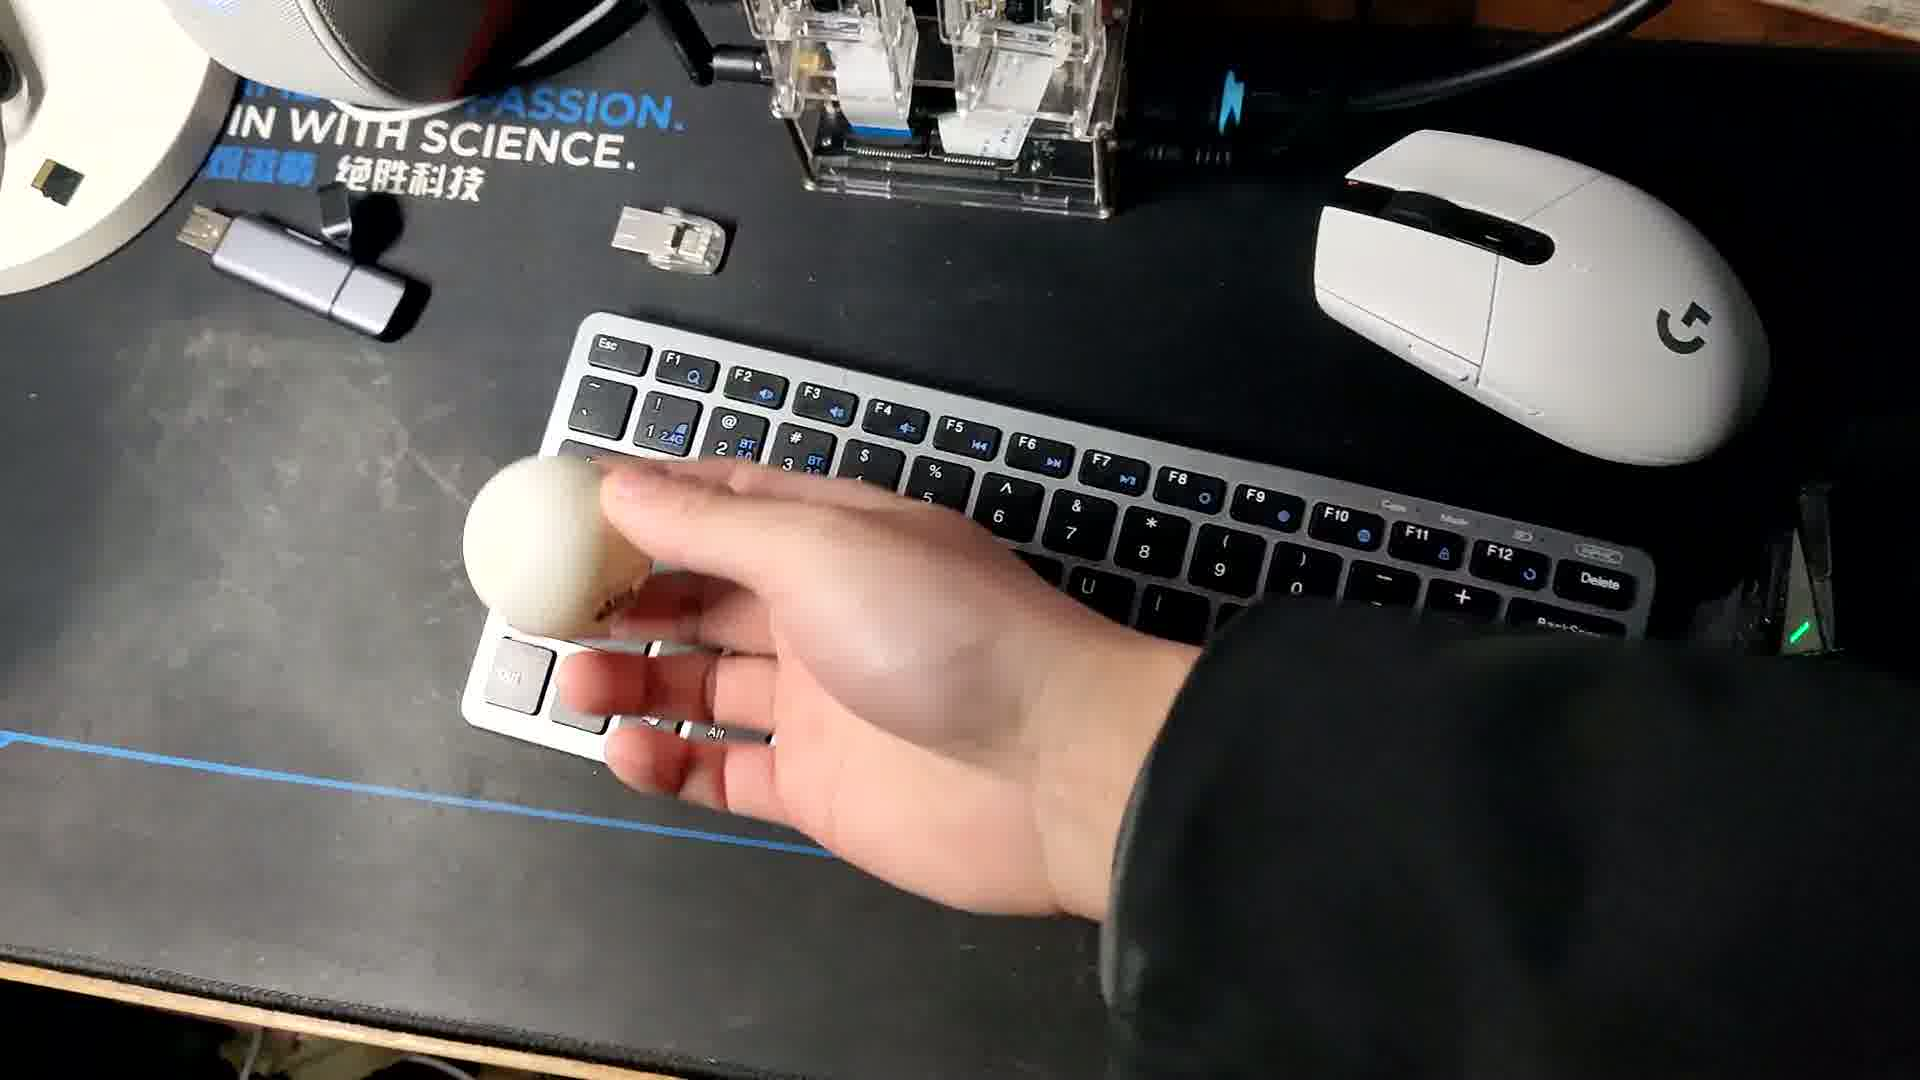Ball: (464, 455, 661, 632)
